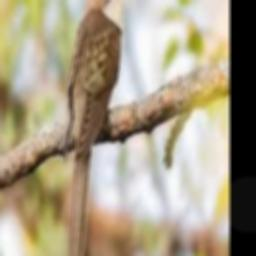Cuckoo: (66, 0, 134, 256)
